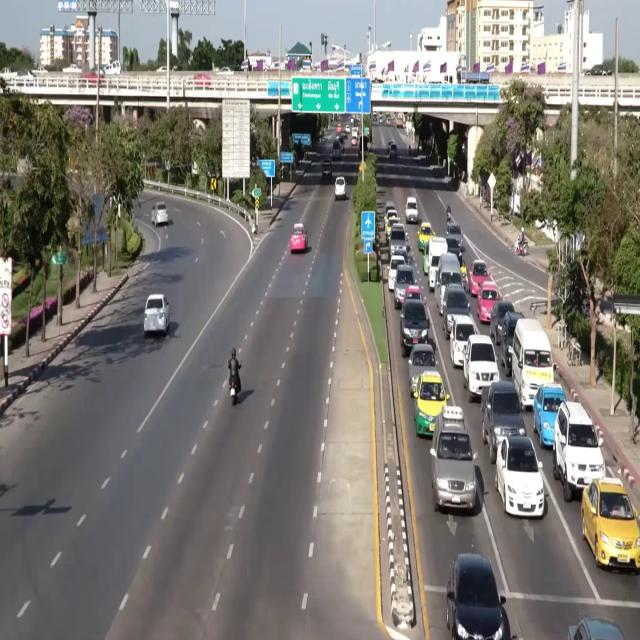car: (582, 478, 639, 571), (446, 553, 506, 639), (553, 401, 604, 502), (431, 407, 477, 512), (495, 436, 544, 518), (481, 381, 525, 463), (463, 335, 499, 402), (414, 371, 449, 436), (533, 384, 565, 447), (400, 301, 429, 357), (442, 284, 469, 339), (408, 344, 436, 397), (500, 312, 523, 376), (450, 316, 475, 367), (568, 618, 624, 639), (490, 300, 514, 345), (144, 295, 169, 336), (477, 280, 501, 322), (394, 265, 414, 309), (468, 260, 490, 295), (388, 255, 406, 292), (388, 223, 408, 255), (290, 223, 308, 253), (445, 236, 463, 262), (418, 223, 434, 252), (403, 285, 426, 304), (151, 201, 168, 225), (385, 209, 399, 237), (446, 223, 463, 246), (82, 69, 103, 86), (584, 64, 611, 76), (406, 197, 418, 223), (334, 176, 346, 200), (193, 72, 211, 86), (394, 251, 413, 264), (105, 61, 121, 75), (16, 71, 34, 83), (0, 67, 17, 79), (332, 140, 342, 159), (322, 160, 332, 179), (384, 200, 396, 215), (32, 64, 48, 75), (63, 64, 81, 73), (217, 67, 233, 75), (389, 143, 397, 159), (358, 145, 362, 161), (352, 127, 358, 137), (336, 124, 342, 134), (387, 141, 392, 152), (351, 137, 357, 146), (345, 125, 350, 134), (386, 118, 391, 126)
scooty: (514, 240, 528, 256), (229, 379, 237, 405)
